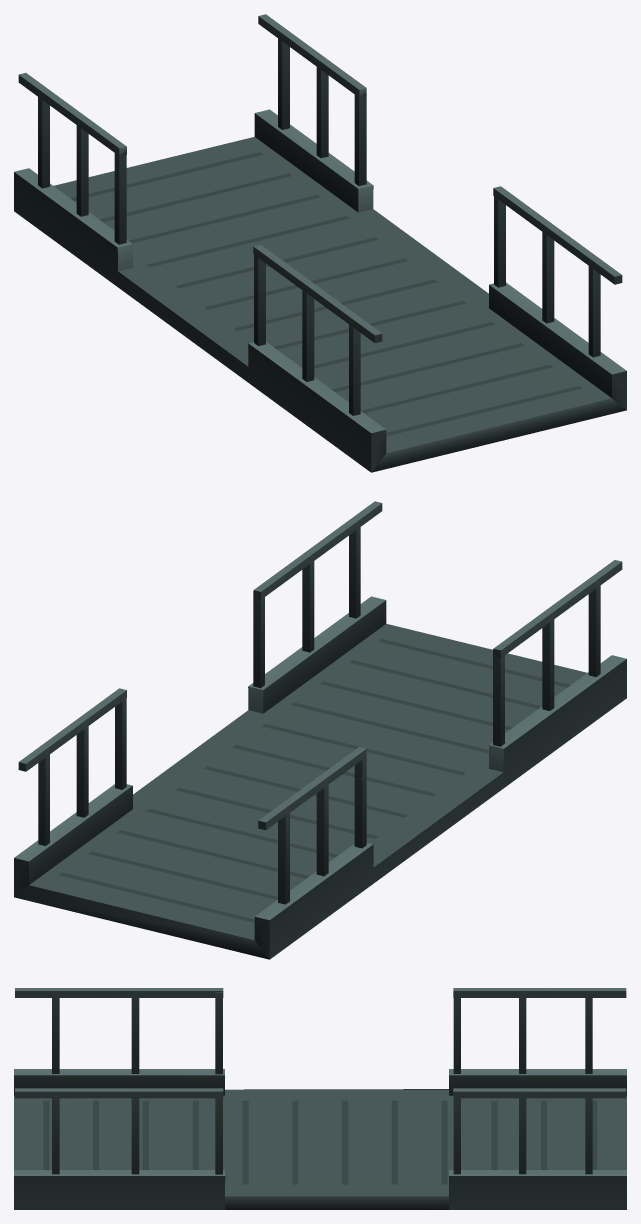
The model's file is Catwalk03.fbx.
The picture shows the model from 3 angles, top to bottom: view 1: azimuth 30°, elevation 25°; view 2: azimuth 150°, elevation 25°; view 3: azimuth 270°, elevation 25°; orthographic projection. The views are drawn at different scales.
Parts seen in each view (by area): view 1: catwalk03, Fence03; view 2: catwalk03, Fence03; view 3: catwalk03, Fence03.
Part boxes in pixels (<box>): catwalk03: <box>14,109,626,472</box>; Fence03: <box>18,14,622,415</box>; catwalk03: <box>14,596,626,959</box>; Fence03: <box>18,501,622,904</box>; catwalk03: <box>14,1069,626,1209</box>; Fence03: <box>15,988,626,1174</box>.
Bounding box in the file's own units: 339 × 172 × 821.
